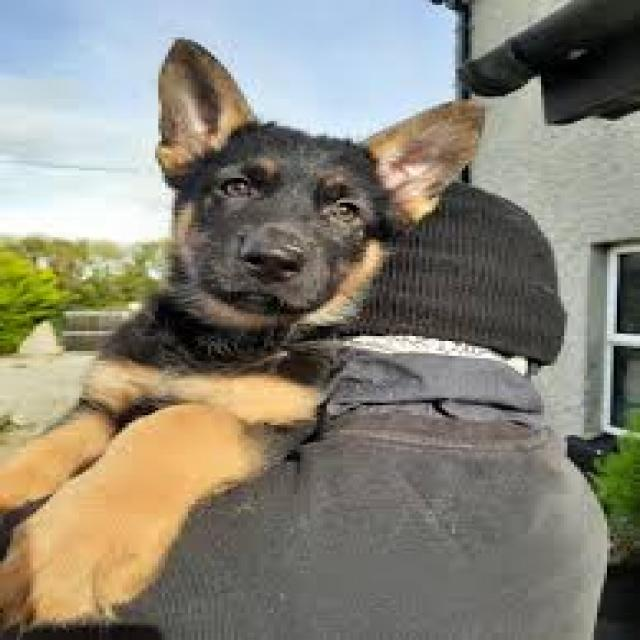Dog: (0, 31, 494, 623)
